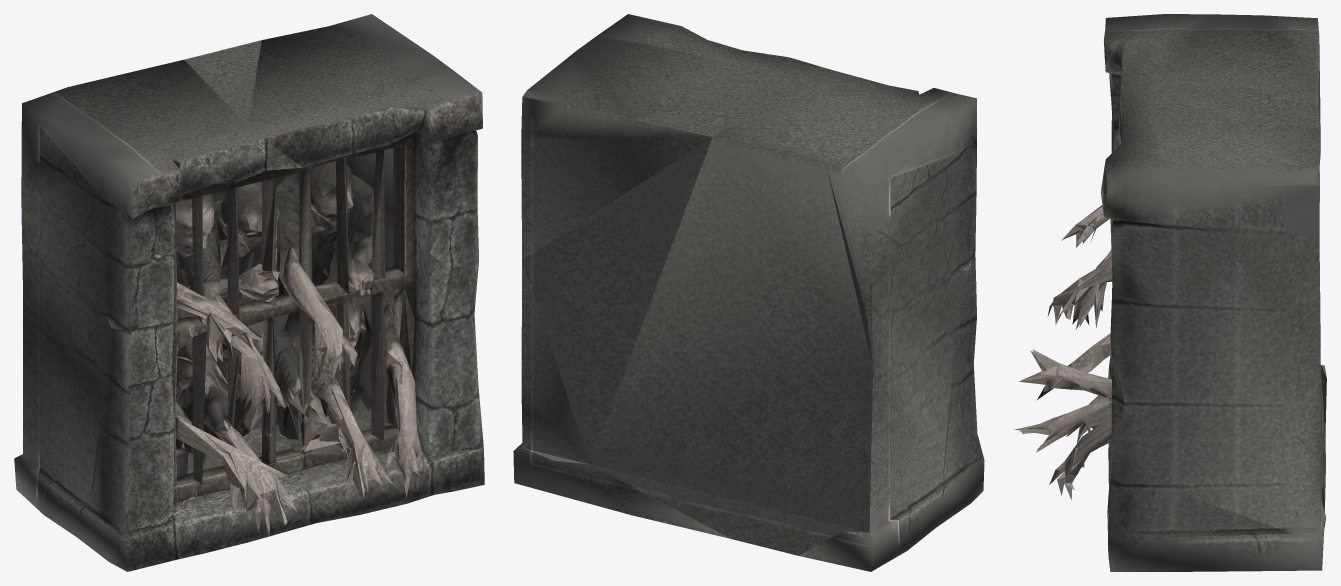
Rendered from prison-cell-arms-static.glb.
The picture shows the model from 3 angles, left to right: view 1: azimuth 30°, elevation 25°; view 2: azimuth 150°, elevation 25°; view 3: azimuth 270°, elevation 25°; orthographic projection. The views are drawn at different scales.
Bounding box in the file's own units: 1.93 × 2 × 1.47.
1 material, 1 textured.
